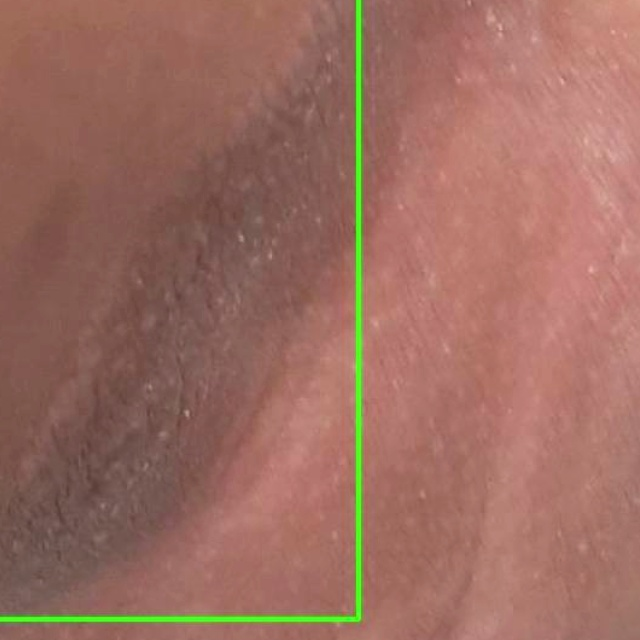Contact Dermatitis: (0, 0, 358, 619)
